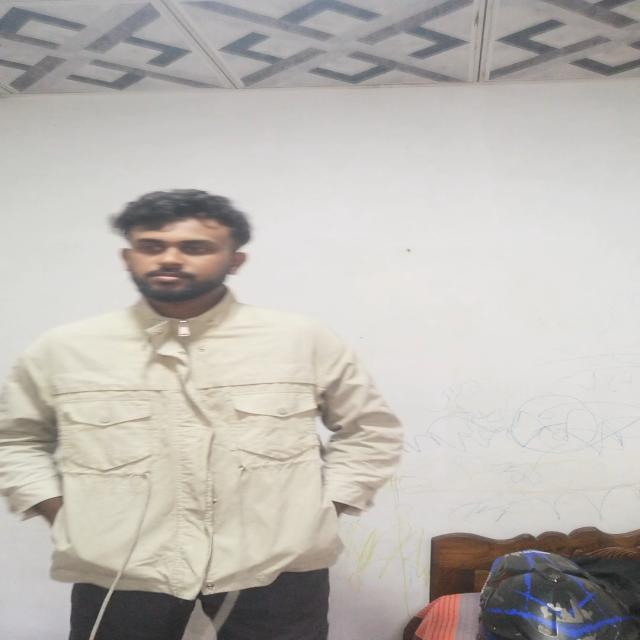Jacket_Wearer: (9, 290, 428, 585)
Person: (9, 180, 406, 640)
